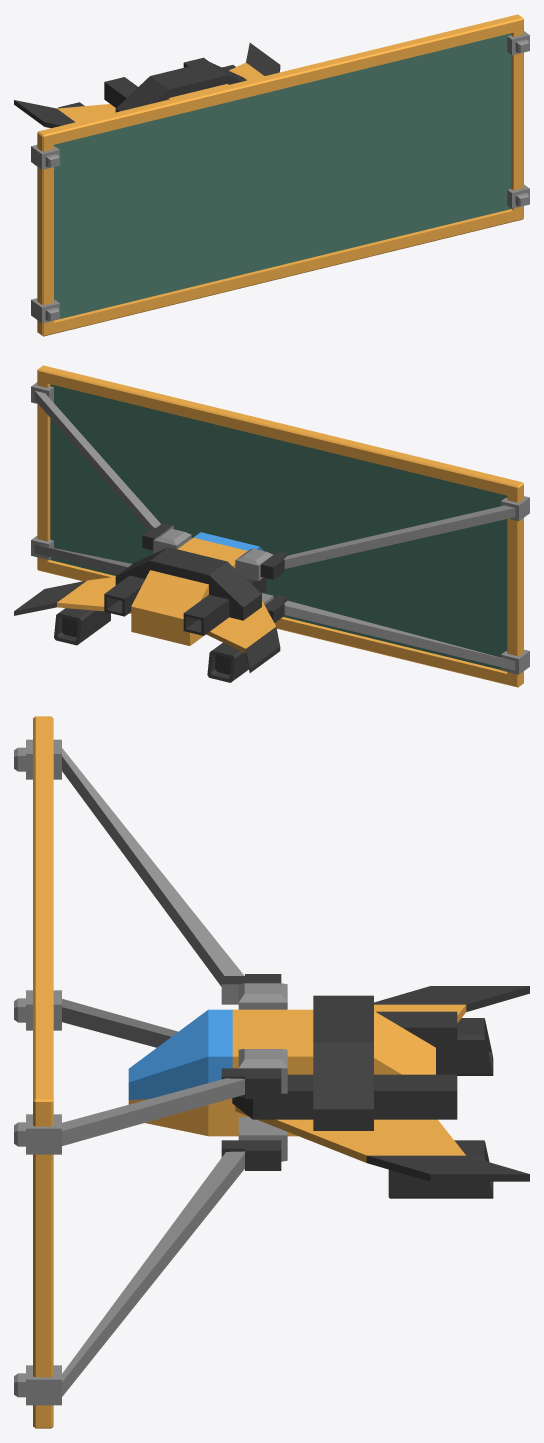
File: t2_wall.fbx
3 renders of one model, top to bottom at view 1: azimuth 30°, elevation 25°; view 2: azimuth 150°, elevation 25°; view 3: azimuth 270°, elevation 25°, orthographic. The views are drawn at different scales.
Visible parts, largest first — view 1: Wall|Cube.002_L_Rocket_Wall.blend|Dupli|; view 2: Wall|Cube.002_L_Rocket_Wall.blend|Dupli|; view 3: Wall|Cube.002_L_Rocket_Wall.blend|Dupli|.
Part boxes in pixels (<box>): Wall|Cube.002_L_Rocket_Wall.blend|Dupli|: <box>14,14,529,336</box>; Wall|Cube.002_L_Rocket_Wall.blend|Dupli|: <box>14,365,529,687</box>; Wall|Cube.002_L_Rocket_Wall.blend|Dupli|: <box>14,716,529,1428</box>.
Bounding box in the file's own units: 959 × 379 × 537.
